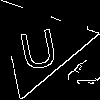U: (15, 19, 61, 71)
